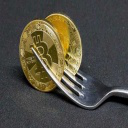fork: (19, 33, 128, 114)
